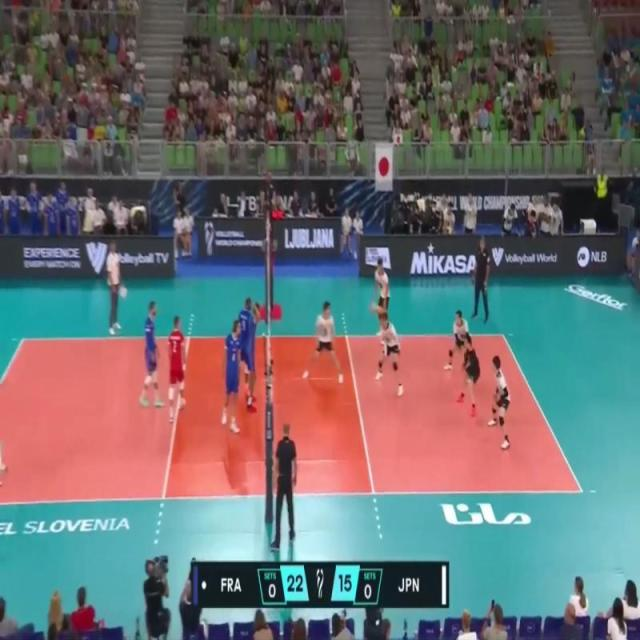volleyball: (374, 301, 384, 318)
